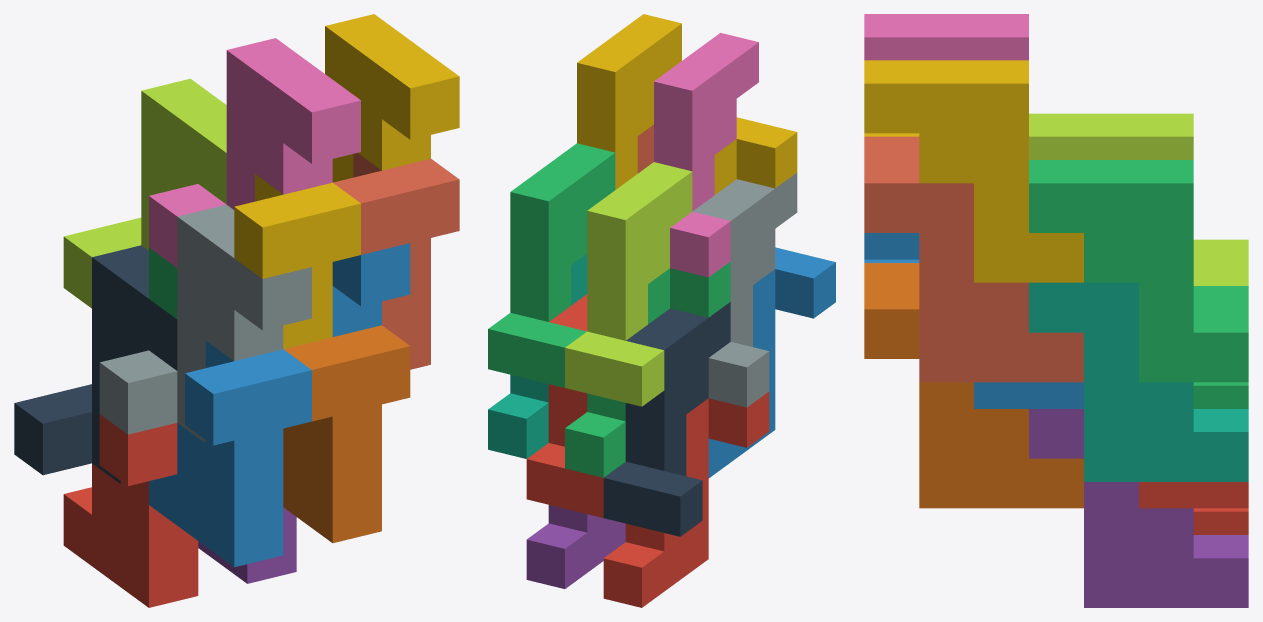
Rendered from tiling.obj.
3 views of the same model, side by side, from view 1: azimuth 30°, elevation 25°; view 2: azimuth 150°, elevation 25°; view 3: azimuth 270°, elevation 25° (orthographic). The views are drawn at different scales.
Parts seen in each view (by area): view 1: copy_1_domain_2, copy_2_domain_2, copy_2_domain_4, copy_1_domain_6, copy_1_domain_1, copy_2_domain_1, copy_2_domain_8, copy_2_domain_3, copy_1_domain_8, copy_1_domain_4, copy_2_domain_6, copy_1_domain_5 (+1 smaller); view 2: copy_2_domain_3, copy_2_domain_7, copy_2_domain_1, copy_2_domain_4, copy_2_domain_2, copy_2_domain_8, copy_1_domain_1, copy_1_domain_3, copy_1_domain_2, copy_2_domain_5, copy_1_domain_5, copy_1_domain_7 (+2 smaller); view 3: copy_2_domain_7, copy_2_domain_8, copy_1_domain_8, copy_1_domain_7, copy_1_domain_6, copy_1_domain_5, copy_2_domain_3, copy_2_domain_4, copy_2_domain_6, copy_2_domain_5, copy_1_domain_1, copy_1_domain_3.
Boxes of the visible parts, x1=… form: copy_1_domain_2: x1=149, y1=341, x2=311, y2=567; copy_2_domain_2: x1=99, y1=204, x2=311, y2=442; copy_2_domain_4: x1=149, y1=38, x2=360, y2=267; copy_1_domain_6: x1=283, y1=325, x2=410, y2=543; copy_1_domain_1: x1=63, y1=414, x2=198, y2=607; copy_2_domain_1: x1=14, y1=245, x2=177, y2=483; copy_2_domain_8: x1=325, y1=14, x2=459, y2=182; copy_2_domain_3: x1=63, y1=78, x2=226, y2=308; copy_1_domain_8: x1=333, y1=153, x2=459, y2=369; copy_1_domain_4: x1=234, y1=174, x2=360, y2=349; copy_2_domain_6: x1=332, y1=243, x2=410, y2=336; copy_1_domain_5: x1=198, y1=507, x2=296, y2=583; copy_2_domain_3: x1=565, y1=162, x2=692, y2=406; copy_2_domain_7: x1=488, y1=143, x2=615, y2=387; copy_2_domain_1: x1=603, y1=302, x2=730, y2=536; copy_2_domain_4: x1=654, y1=33, x2=758, y2=277; copy_2_domain_2: x1=693, y1=172, x2=797, y2=407; copy_2_domain_8: x1=577, y1=14, x2=681, y2=189; copy_1_domain_1: x1=603, y1=391, x2=769, y2=607; copy_1_domain_3: x1=565, y1=261, x2=730, y2=477; copy_1_domain_2: x1=708, y1=247, x2=835, y2=478; copy_2_domain_5: x1=526, y1=294, x2=603, y2=517; copy_1_domain_5: x1=526, y1=505, x2=625, y2=588; copy_1_domain_7: x1=488, y1=254, x2=587, y2=458; copy_2_domain_7: x1=1029, y1=160, x2=1248, y2=382; copy_2_domain_8: x1=864, y1=60, x2=1083, y2=282; copy_1_domain_8: x1=864, y1=136, x2=1083, y2=382; copy_1_domain_7: x1=1029, y1=282, x2=1248, y2=481; copy_1_domain_6: x1=864, y1=263, x2=1083, y2=508; copy_1_domain_5: x1=1029, y1=409, x2=1248, y2=607; copy_2_domain_3: x1=1029, y1=113, x2=1248, y2=285; copy_2_domain_4: x1=864, y1=14, x2=1028, y2=60; copy_2_domain_6: x1=864, y1=233, x2=1083, y2=408; copy_2_domain_5: x1=1139, y1=482, x2=1248, y2=508; copy_1_domain_1: x1=1193, y1=508, x2=1248, y2=534; copy_1_domain_3: x1=1193, y1=382, x2=1248, y2=408.
Bounding box in the file's own units: 5 × 11 × 7.
